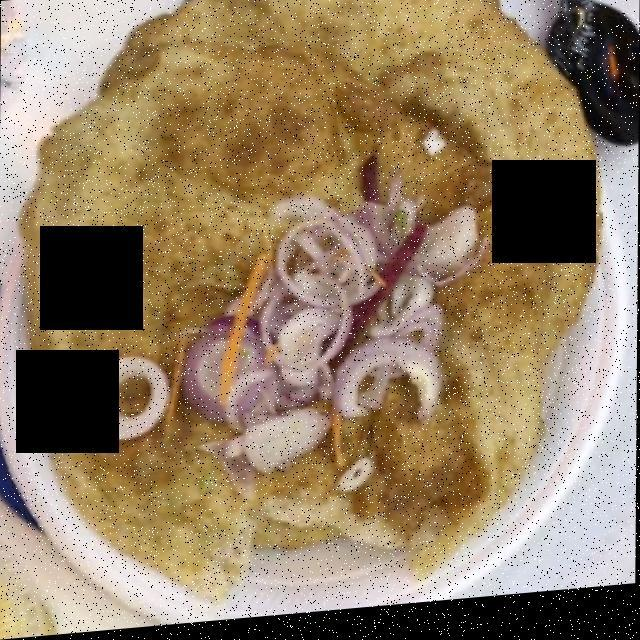naan-bread: (45, 0, 572, 566)
onion: (77, 179, 508, 503)
